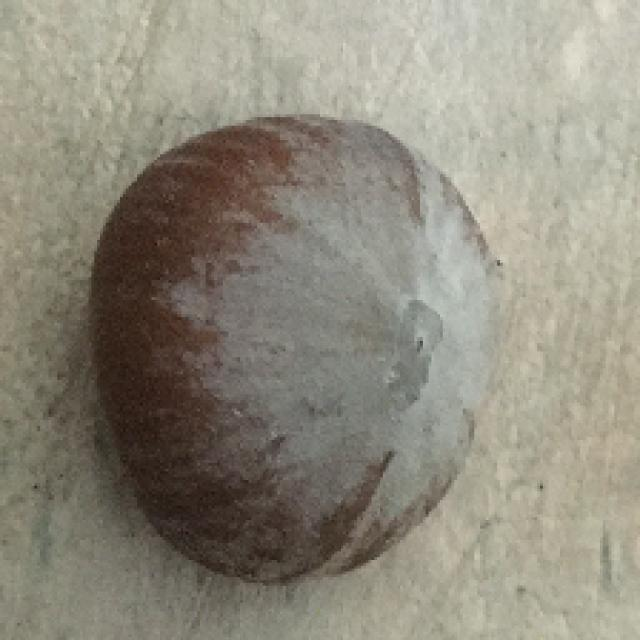QualityHazelnut: (86, 108, 505, 591)
